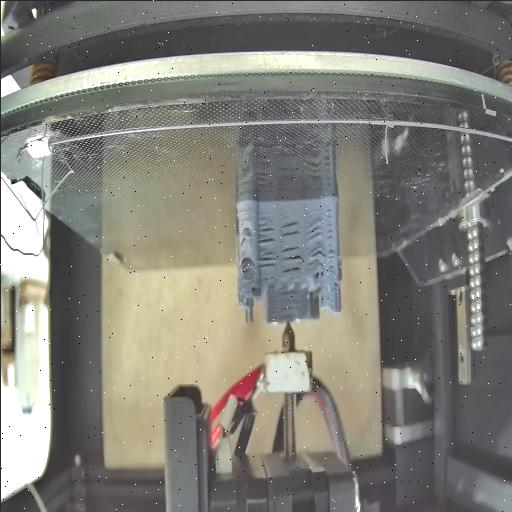cracks: (324, 201, 334, 269), (280, 243, 302, 273), (278, 208, 300, 238), (272, 290, 300, 312), (256, 214, 274, 244), (256, 250, 276, 270), (304, 220, 322, 240), (307, 246, 323, 266), (240, 224, 250, 249), (239, 259, 252, 276), (332, 276, 340, 293)
